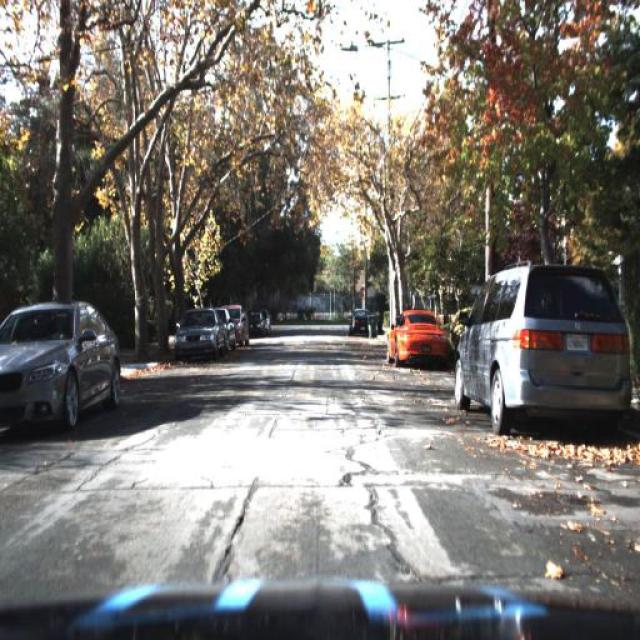car: (446, 258, 640, 450), (453, 255, 635, 431), (0, 294, 118, 424), (384, 305, 454, 364), (172, 306, 226, 360), (234, 308, 250, 352), (222, 310, 236, 354)
